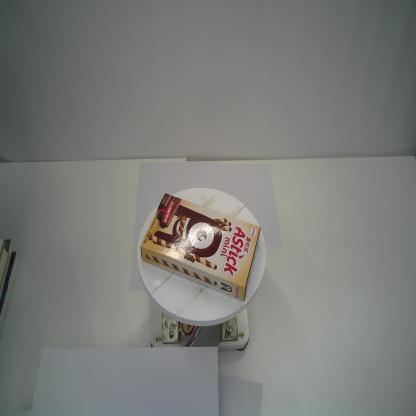Dessert: (140, 192, 260, 302)
